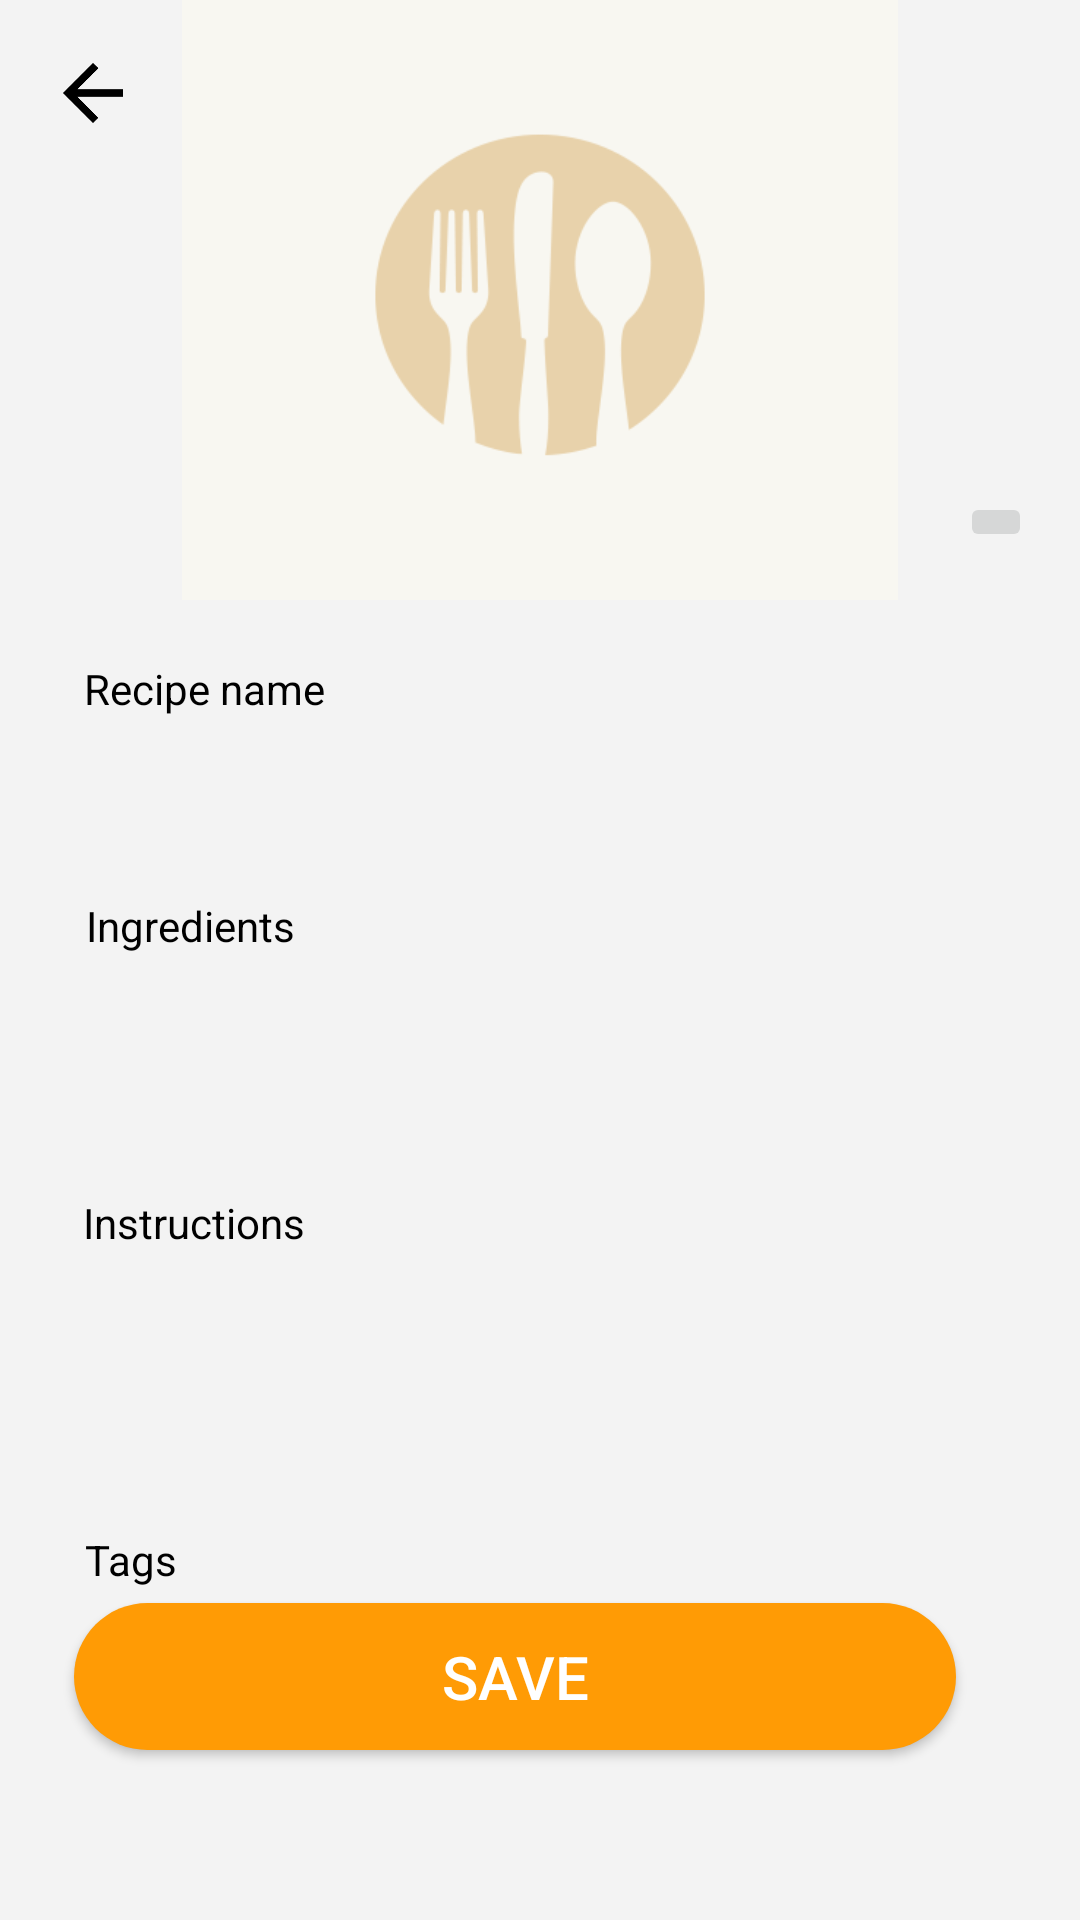

Screen size 1080×1920. Icon name, then its box in pixels as [x1, y1, x2, y2]:
android arrow back: [63, 63, 123, 123]
